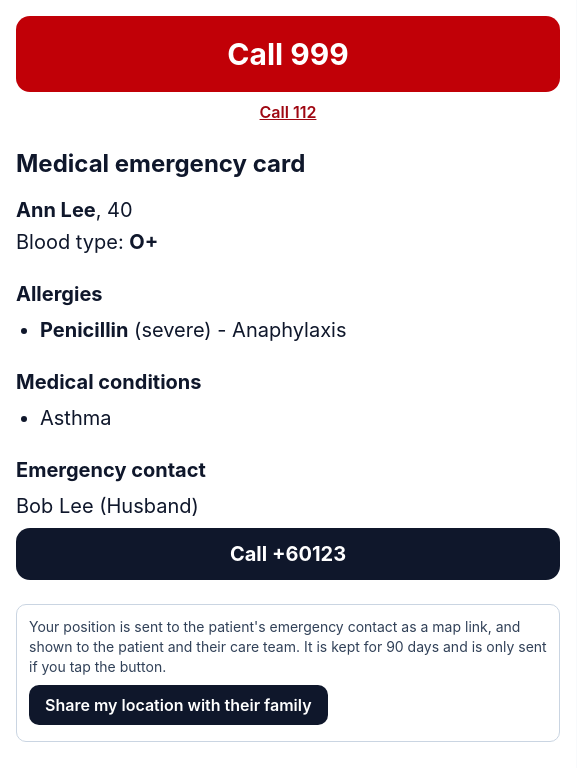
it: EmergencyPublic › location sharing › button flow: nothing is asked until the tap, then posts once and shows shared
Expected: the text "Ann Lee" is shown, x1=16 y1=198 x2=96 y2=222
Click the button "Share my location with their family" at (178, 705), box x1=29 y1=685 x2=328 y2=725
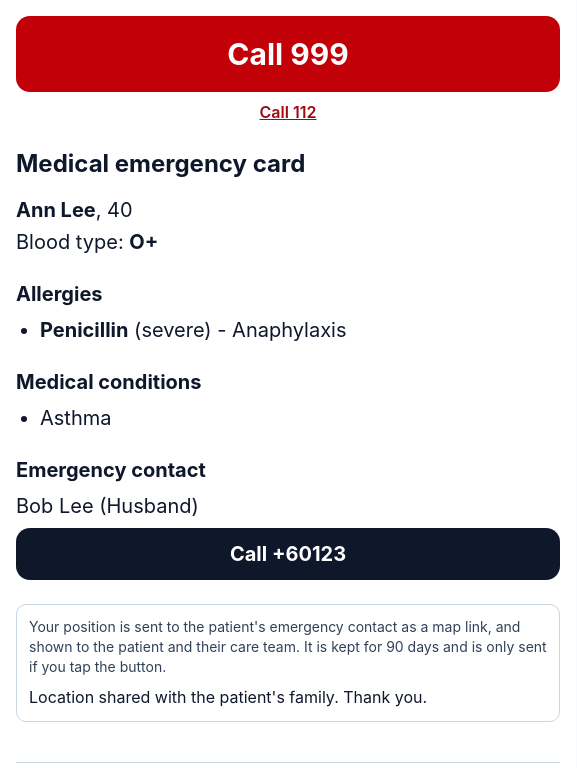
Now the message shows "Location shared", box x1=29 y1=687 x2=427 y2=707
Now the button "Share my location" is gone
